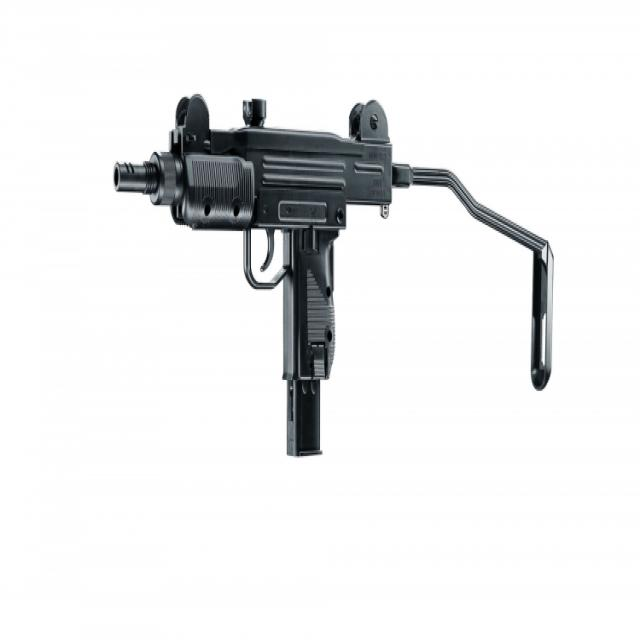SMG: (113, 94, 395, 459)
